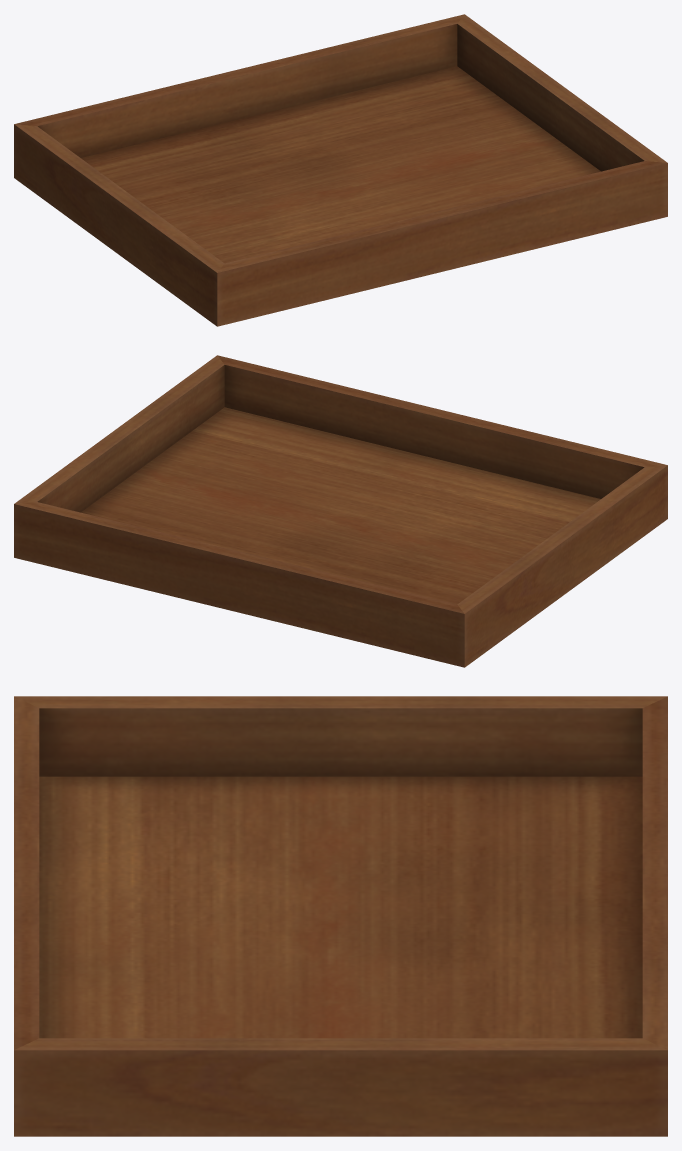
The model's file is GardenTableWear01_7.FBX.
3 views of the same model, one above another, from view 1: azimuth 30°, elevation 25°; view 2: azimuth 150°, elevation 25°; view 3: azimuth 270°, elevation 25° (orthographic). The views are drawn at different scales.
Visible parts, largest first — view 1: GardenTableWear01_7; view 2: GardenTableWear01_7; view 3: GardenTableWear01_7.
Part boxes in pixels (x1,y1,x2,y2): GardenTableWear01_7: (14,14,667,326); GardenTableWear01_7: (14,355,667,667); GardenTableWear01_7: (14,696,667,1136).
Size of what is drawn, in the model's own units: 0.5656 by 0.0644 by 0.4417.
